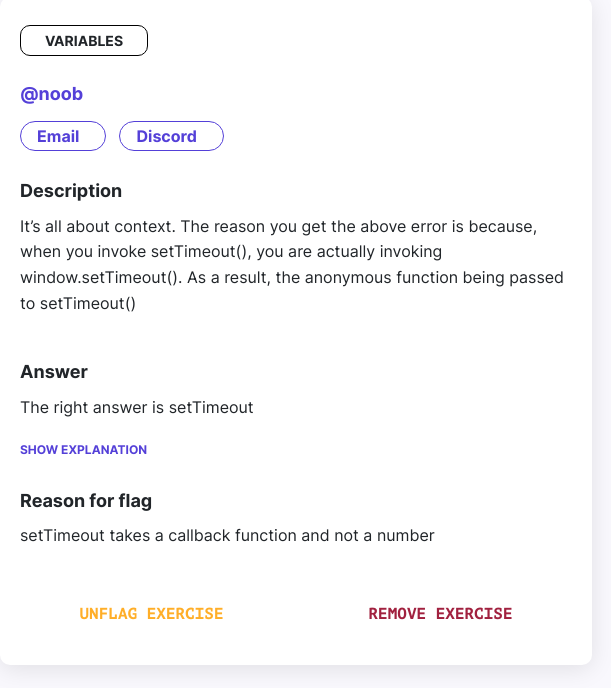
Scenario: AdminLessonExerciseCard component › Should show loading spinner
Click the button "REMOVE EXERCISE" at (440,614), box [309,591,572,637]
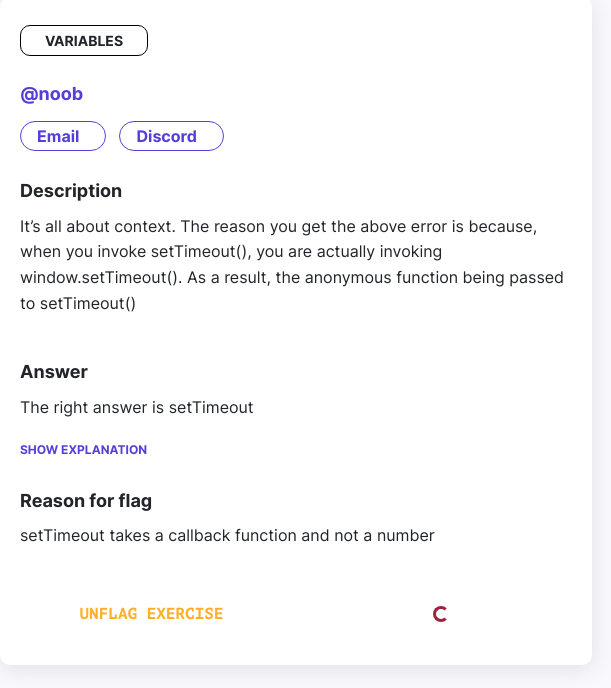
Expected: the text "REMOVE EXERCISE" is gone
